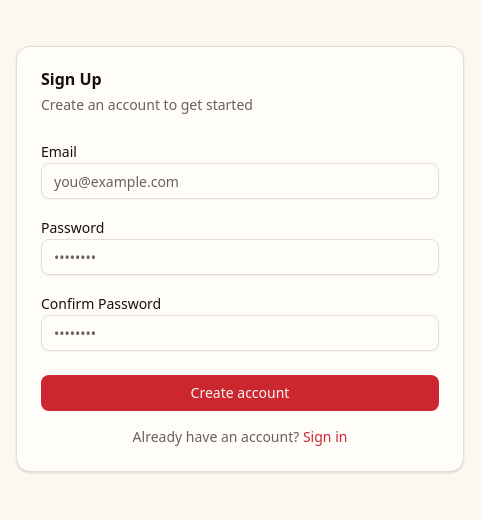
Test: Signup › displays error message on failed signup
Type "test@example.com" into the field labelled "Email" at (240, 181), box [41,163,439,199]
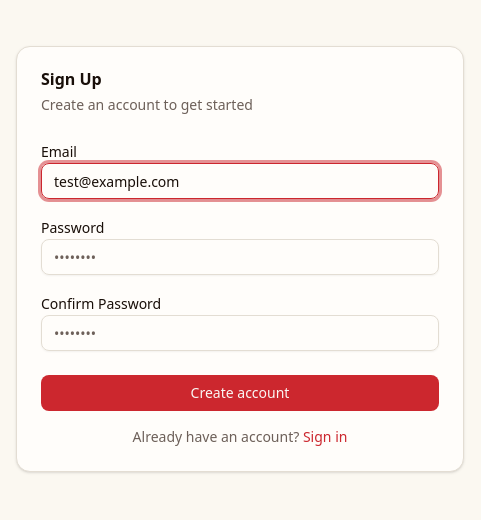
Type "password123" into the password field labelled "Password" at (240, 257), box [41,239,439,275]
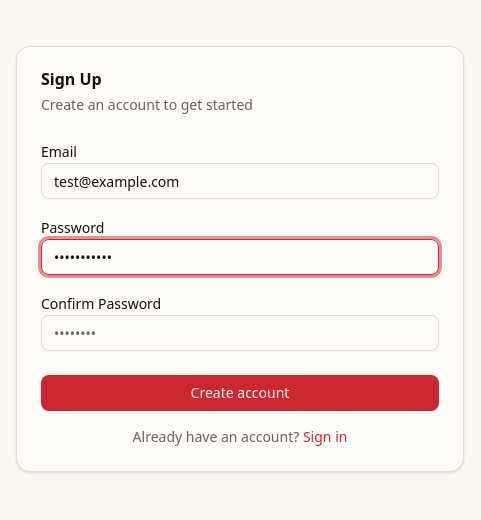
Type "password123" into the password field labelled "Confirm Password" at (240, 333), box [41,315,439,351]
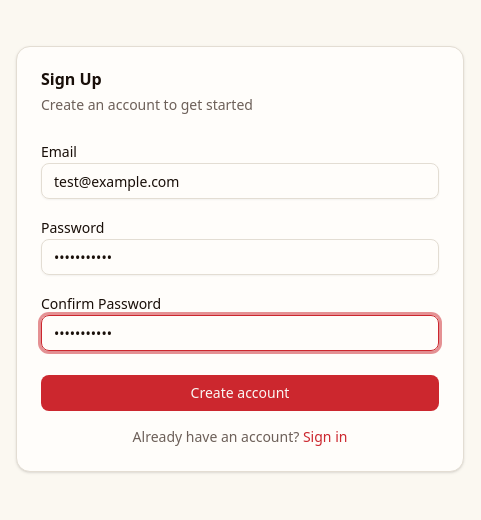
Click the button "Create account" at (240, 393), box [41,375,439,411]
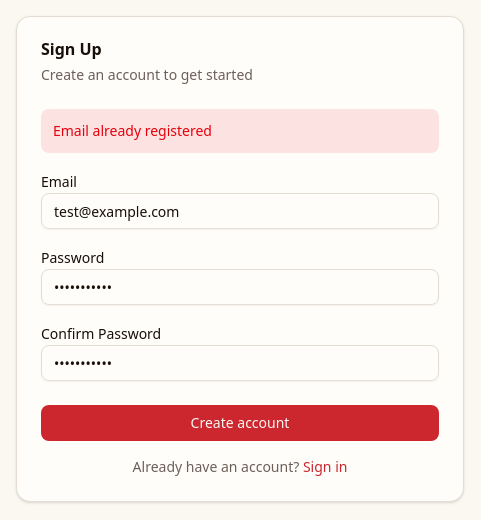
Expected: the text "Email already registered" is shown, [41,109,439,153]
